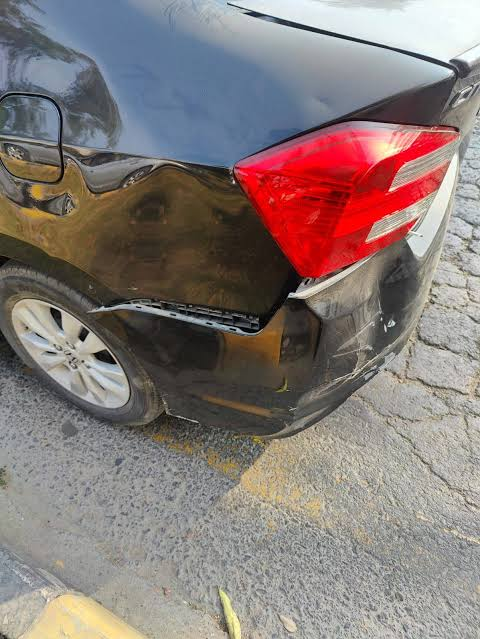Taillight-Damage: (251, 108, 475, 277)
quaterpanel-dent: (1, 28, 253, 332)
rear-bumper-dent: (91, 298, 313, 437)
